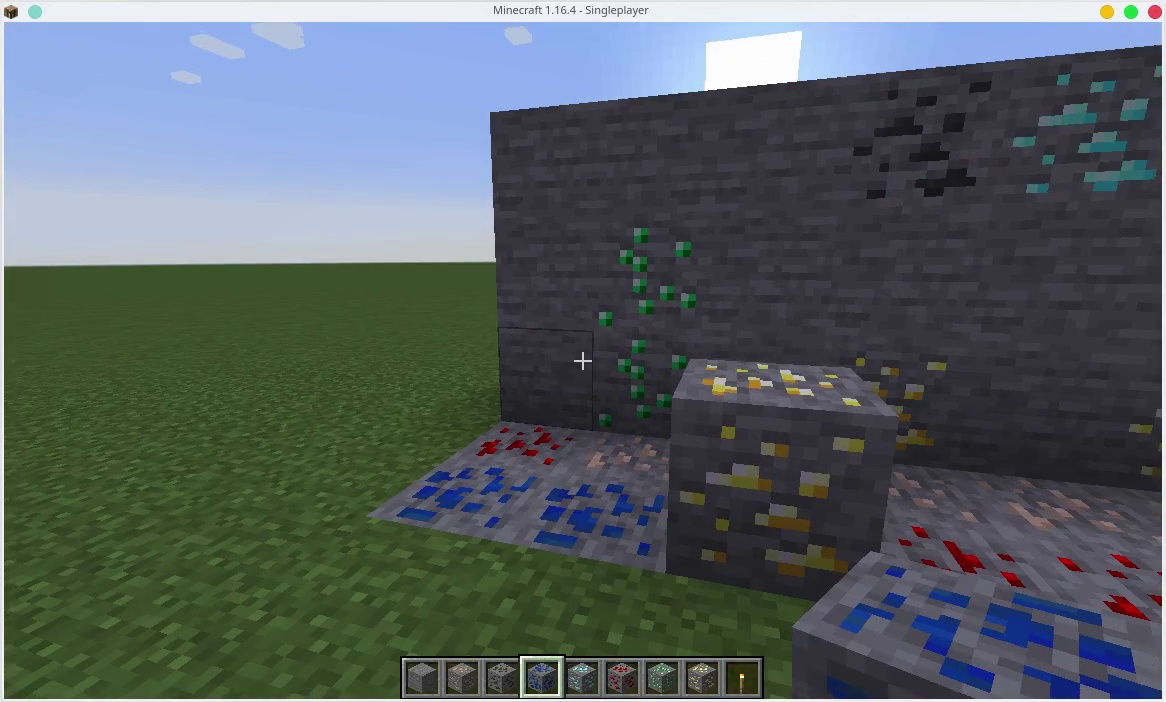gold: (668, 355, 881, 587), (891, 353, 979, 449), (1119, 389, 1166, 482), (688, 664, 718, 695)
